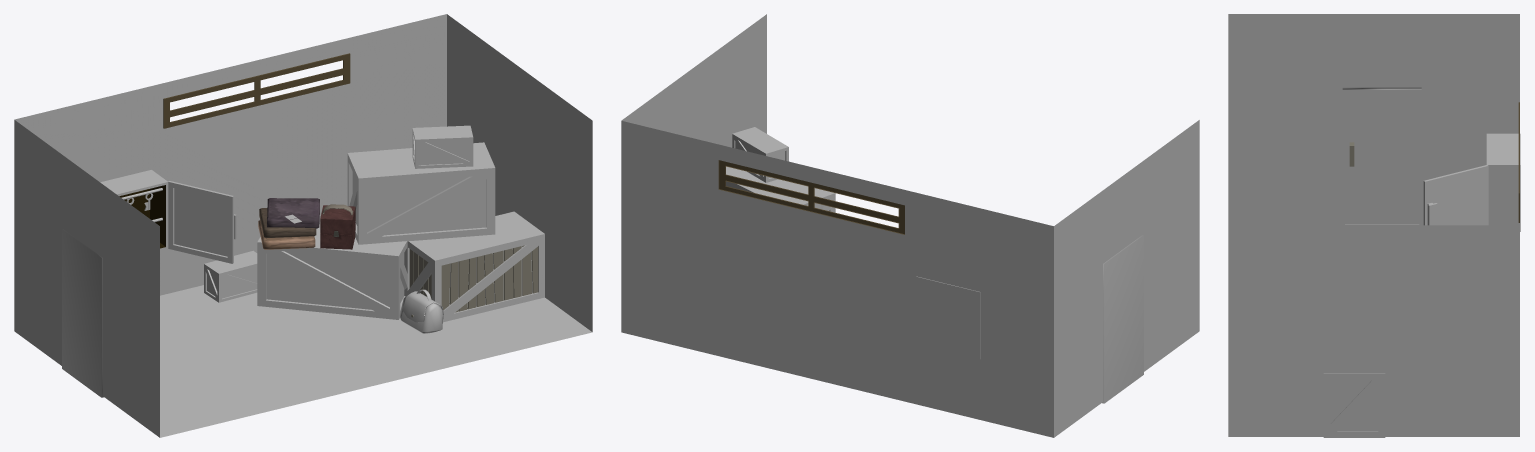
Rendered from Keyroom Scene.fbx.
3 views of the same model, side by side, from view 1: azimuth 30°, elevation 25°; view 2: azimuth 150°, elevation 25°; view 3: azimuth 270°, elevation 25° (orthographic).
Visible parts, largest first — view 1: polySurface1, border_lowLow (×3), LowBox_low (×3), crate:border_lowLow, pCube17, pCube4, polySurface2, pCube3, box_1:BOX1_BOX1, Atas, border_lowLow1, LowBox_low1 (+4 smaller); view 2: polySurface1, pCube17, pCube3, polySurface2, border_lowLow (×2); view 3: polySurface1, pCube17, pCube4, pCube3, crate:border_lowLow.
Boxes of the visible parts, <box> form: polySurface1: <box>14,14,592,437</box>; border_lowLow (×3): <box>257,125,495,319</box>; LowBox_low (×3): <box>266,140,486,309</box>; crate:border_lowLow: <box>404,211,544,322</box>; pCube17: <box>62,229,103,397</box>; pCube4: <box>168,181,233,263</box>; polySurface2: <box>163,53,350,128</box>; pCube3: <box>100,170,168,250</box>; box_1:BOX1_BOX1: <box>320,204,355,249</box>; Atas: <box>267,198,319,228</box>; border_lowLow1: <box>204,250,257,302</box>; LowBox_low1: <box>207,267,257,298</box>; polySurface1: <box>621,14,1199,437</box>; pCube17: <box>1102,235,1143,403</box>; pCube3: <box>916,276,980,358</box>; polySurface2: <box>718,160,904,234</box>; border_lowLow (×2): <box>726,127,835,212</box>; polySurface1: <box>1228,14,1519,436</box>; pCube17: <box>1342,87,1421,225</box>; pCube4: <box>1423,165,1488,225</box>; pCube3: <box>1486,133,1520,231</box>; crate:border_lowLow: <box>1323,373,1385,437</box>.
Size of the model in its own units: 53.83 by 25.23 by 31.33.
